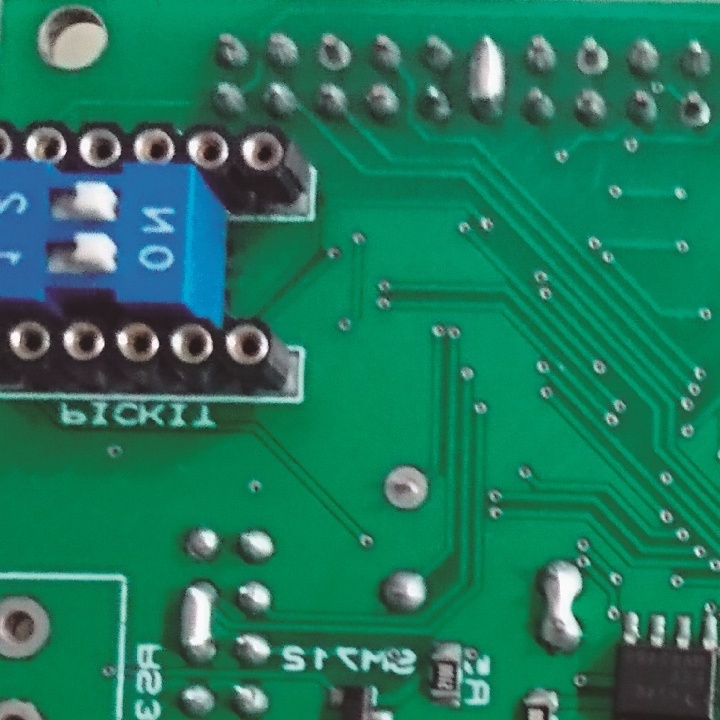F: (1, 591, 58, 661), (383, 463, 434, 516), (570, 38, 616, 79), (313, 32, 356, 73), (676, 90, 714, 129)
P: (537, 556, 586, 654), (175, 578, 220, 663), (464, 35, 507, 121)
